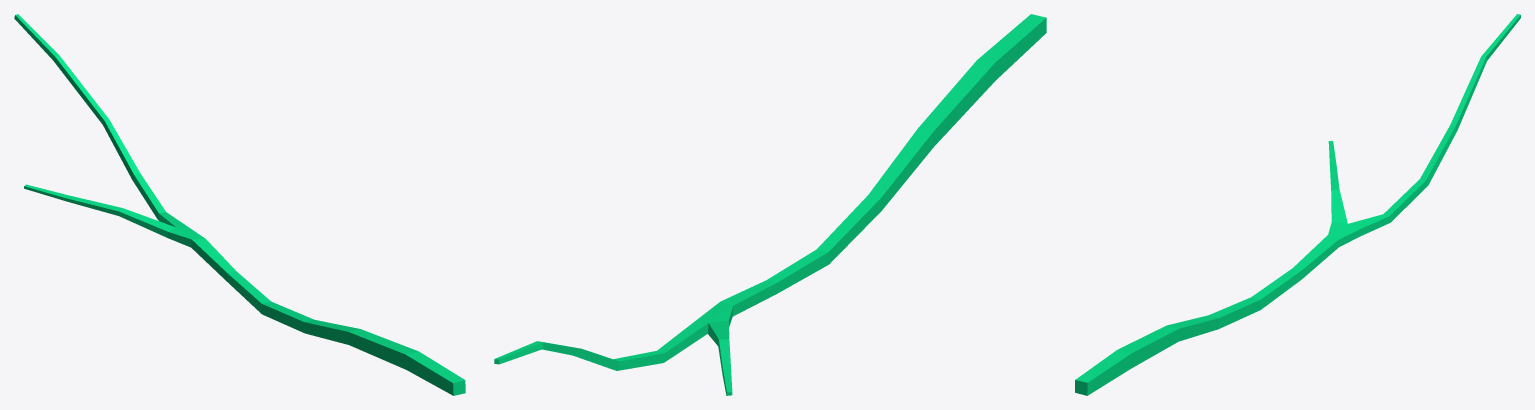
Rendered from Bough_02_Lod1.fbx.
3 renders of one model, left to right at view 1: azimuth 30°, elevation 25°; view 2: azimuth 150°, elevation 25°; view 3: azimuth 330°, elevation 25°, orthographic. The views are drawn at different scales.
Parts seen in each view (by area): view 1: Bough_02_Lod1; view 2: Bough_02_Lod1; view 3: Bough_02_Lod1.
Part boxes in pixels (box(x1,y1,x2,y2)): Bough_02_Lod1: box(14, 14, 465, 395); Bough_02_Lod1: box(494, 14, 1046, 395); Bough_02_Lod1: box(1075, 14, 1520, 395).
Size of the model in its own units: 58.18 by 56.1 by 413.
